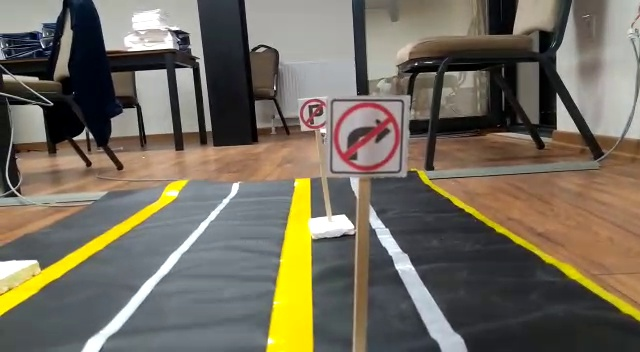park_yapilmaz: (299, 98, 328, 130)
saga_donulmez: (333, 96, 409, 177)
